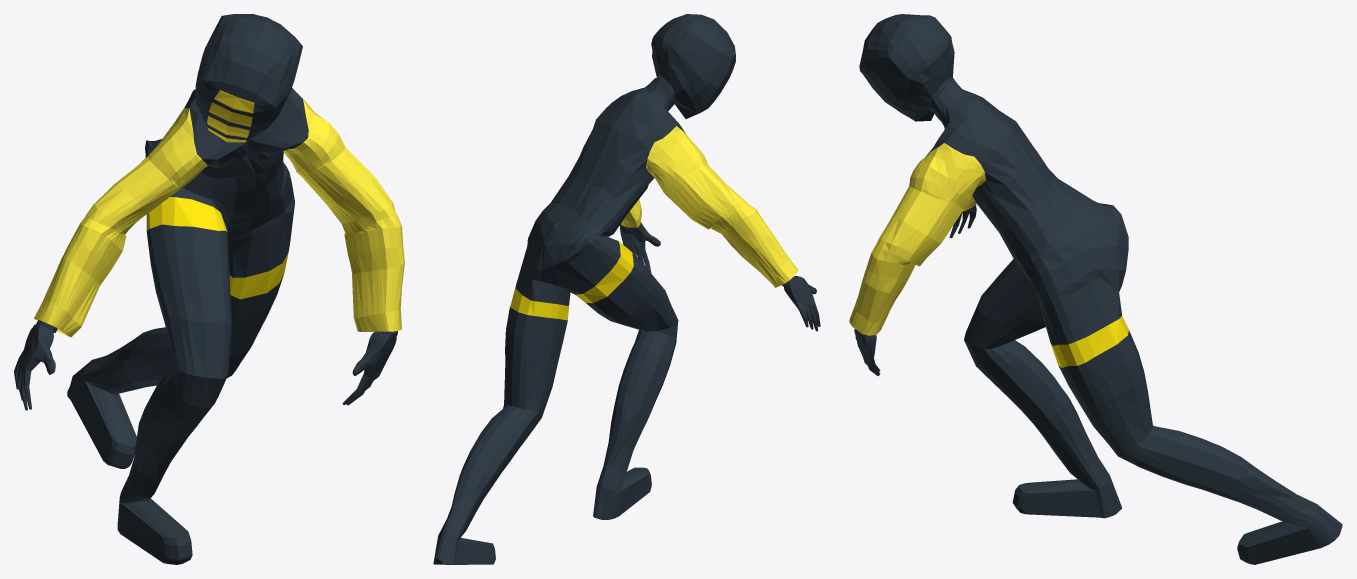
File: Sentry_Die_000005.obj
The picture shows the model from 3 angles, left to right: view 1: azimuth 30°, elevation 25°; view 2: azimuth 150°, elevation 25°; view 3: azimuth 270°, elevation 25°; orthographic projection. The views are drawn at different scales.
Parts seen in each view (by area): view 1: Cube; view 2: Cube; view 3: Cube.
Boxes of the visible parts, <box> form: Cube: <box>14,14,404,564</box>; Cube: <box>433,14,820,564</box>; Cube: <box>849,14,1342,564</box>.
Size of the model in its own units: 1.71 by 2.98 by 2.6.
